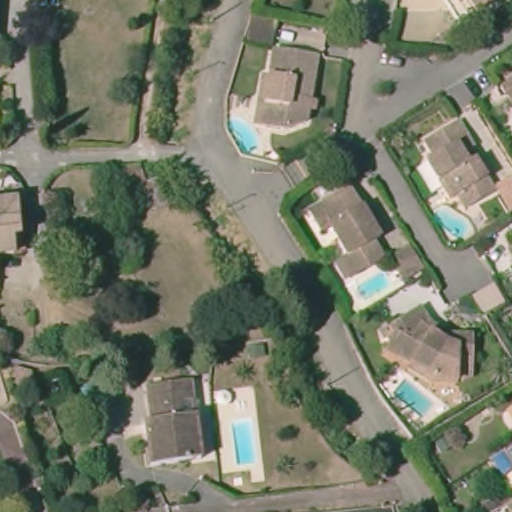pool: (391, 372, 441, 424), (221, 110, 271, 161), (429, 197, 478, 247), (226, 409, 261, 473), (355, 270, 391, 305), (486, 447, 512, 475)
